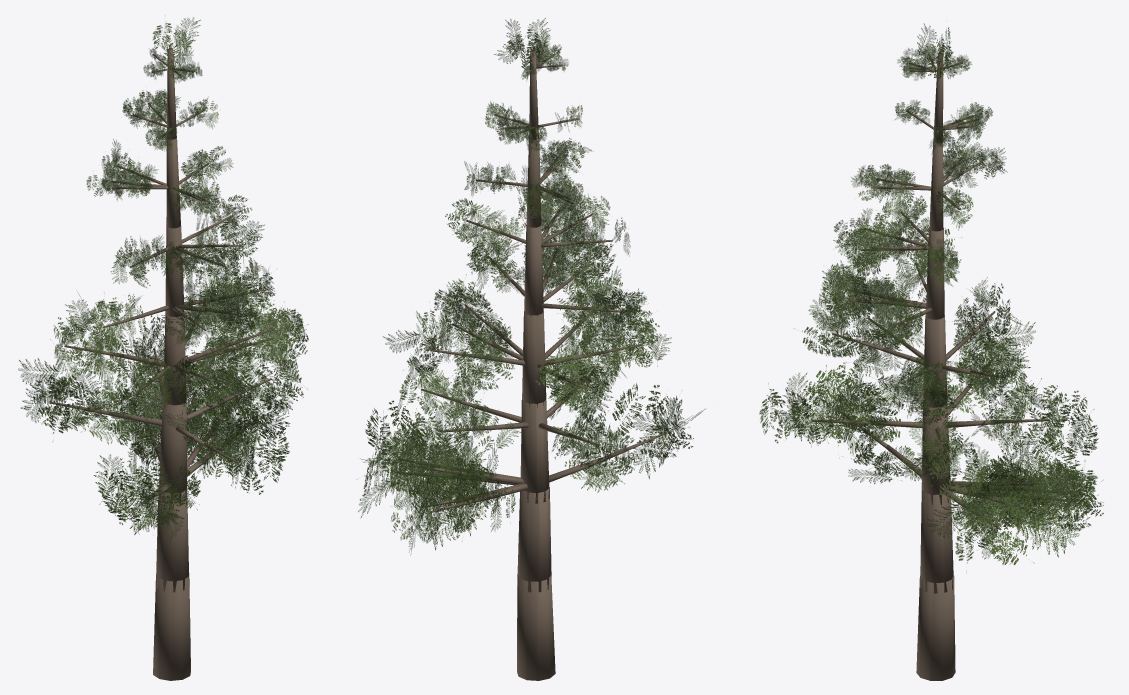
File: pine_3.glb
3 views of the same model, side by side, from view 1: azimuth 30°, elevation 25°; view 2: azimuth 150°, elevation 25°; view 3: azimuth 270°, elevation 25° (orthographic).
Parts seen in each view (by area): view 1: pine; view 2: pine; view 3: pine.
Boxes of the visible parts, box(x1,y1,x2,y2) form: pine: box(18, 15, 308, 680); pine: box(356, 18, 705, 680); pine: box(759, 23, 1103, 680).
Bounding box in the file's own units: 6.85 × 15.49 × 7.77.
Materials: 2 (1 with a texture image).
